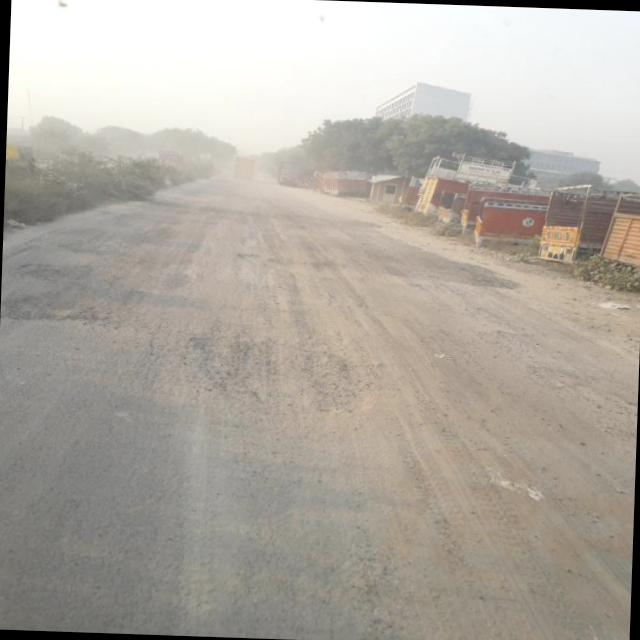pothole: (166, 321, 392, 406), (1, 258, 152, 322), (231, 242, 376, 286)
